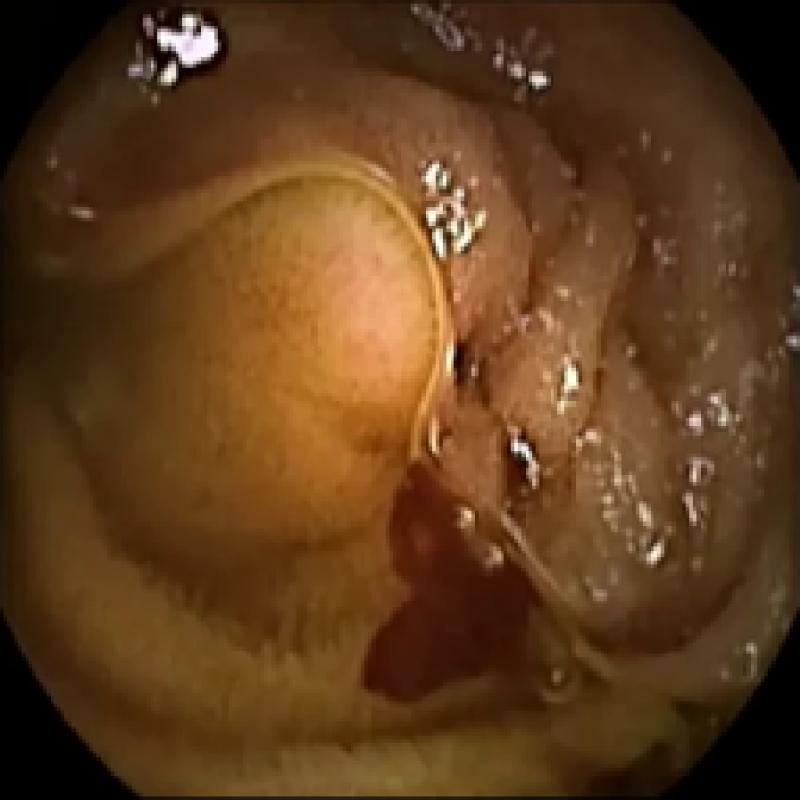bleeding: (364, 432, 554, 692), (128, 4, 228, 100), (447, 322, 494, 405)
